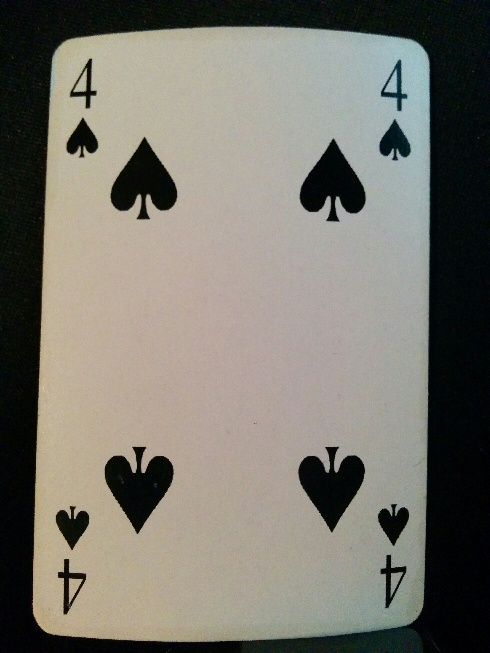S4: (52, 499, 96, 618), (371, 497, 416, 613), (375, 52, 418, 168), (65, 54, 101, 164)
